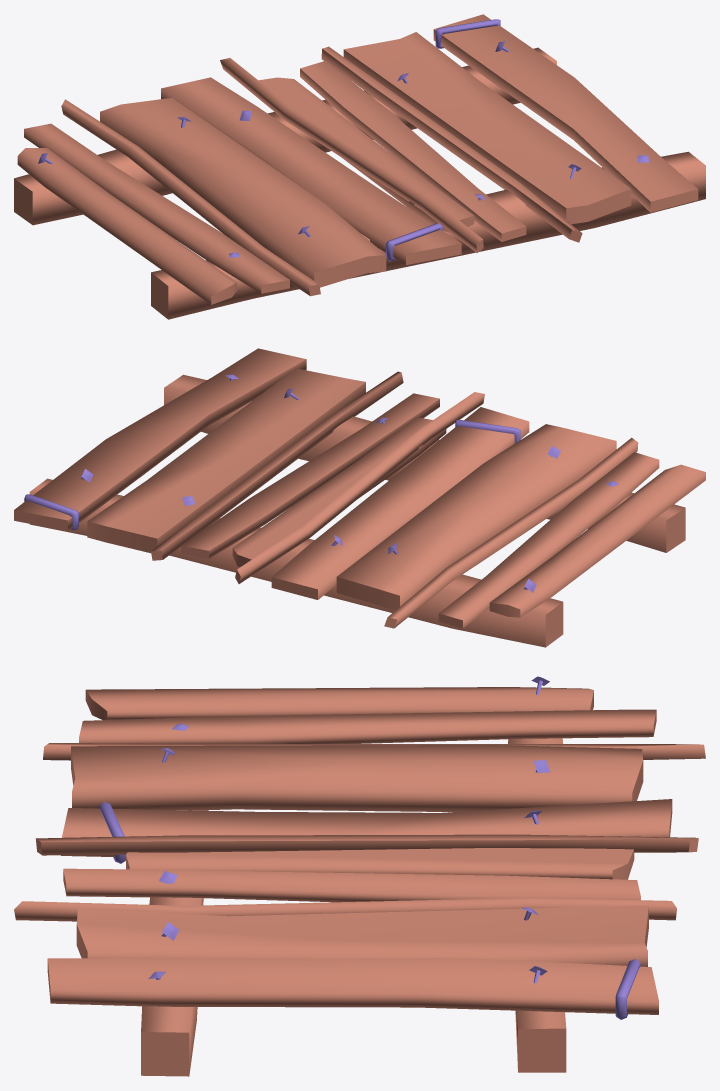
The model's file is prop_wood_d.fbx.
3 views of the same model, one above another, from view 1: azimuth 30°, elevation 25°; view 2: azimuth 150°, elevation 25°; view 3: azimuth 270°, elevation 25° (orthographic). The views are drawn at different scales.
Visible parts, largest first — view 1: Cube.027, Cube.035; view 2: Cube.027, Cube.035; view 3: Cube.027, Cube.035.
Part boxes in pixels (x1,y1,x2,y2): Cube.027: [14, 14, 705, 319]; Cube.035: [38, 19, 649, 261]; Cube.027: [14, 348, 705, 647]; Cube.035: [24, 374, 618, 592]; Cube.027: [14, 687, 705, 1076]; Cube.035: [99, 676, 640, 1019].
Size of the model in its own units: 3.84 by 0.4445 by 3.31.
